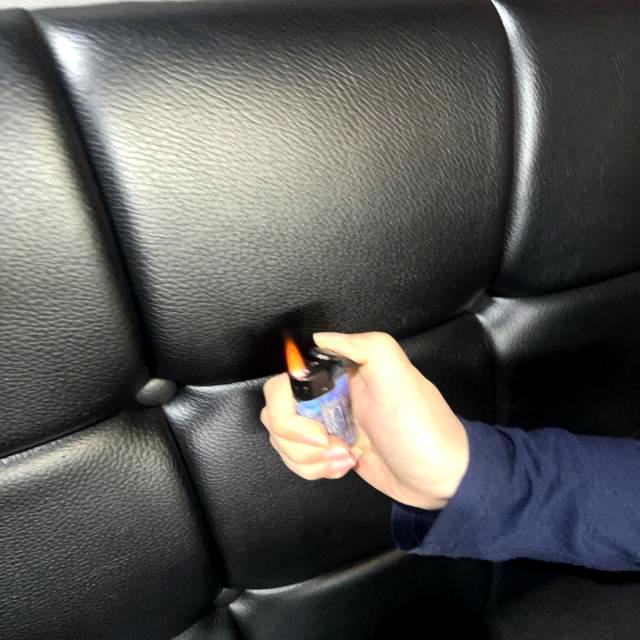fire: (284, 333, 310, 381)
